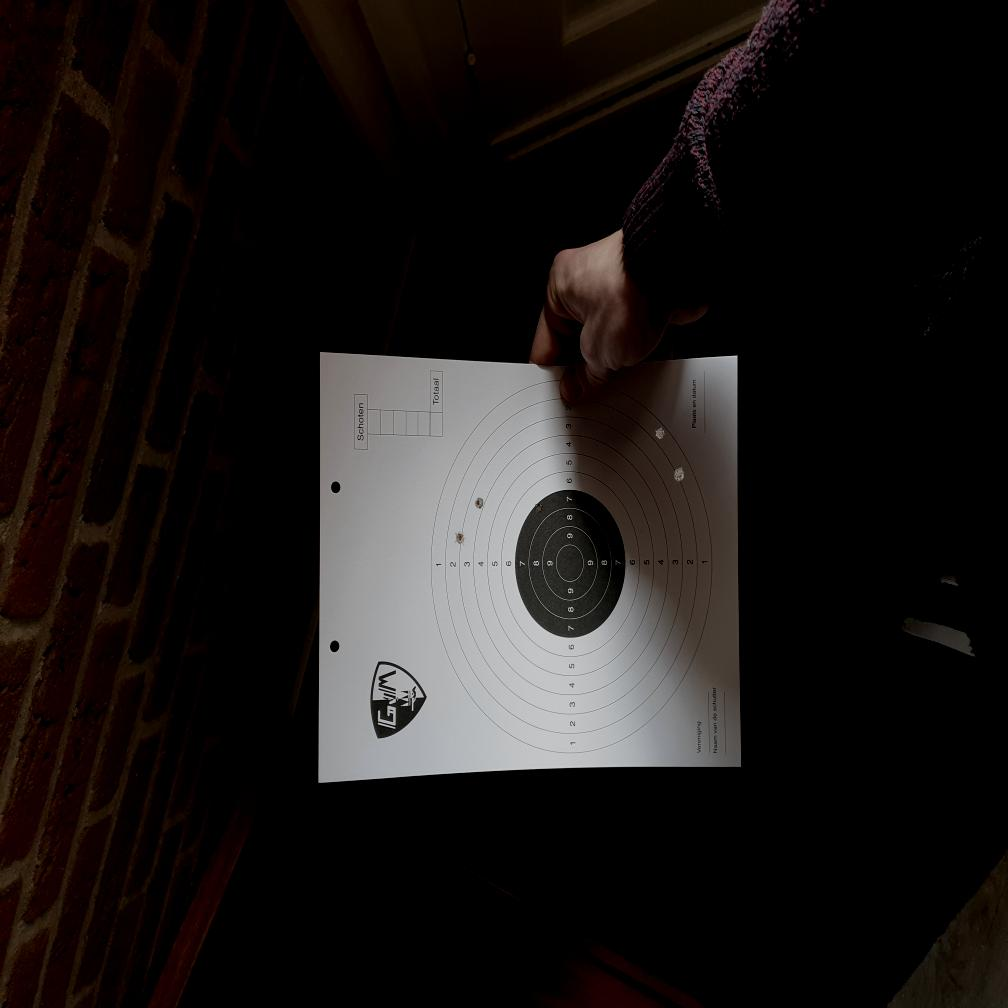1: (656, 428, 664, 440)
2: (674, 467, 684, 482)
3: (454, 531, 465, 546), (475, 497, 484, 509)
7: (534, 503, 544, 515)
Target: (430, 381, 712, 755)
black_contour: (516, 490, 626, 636)
